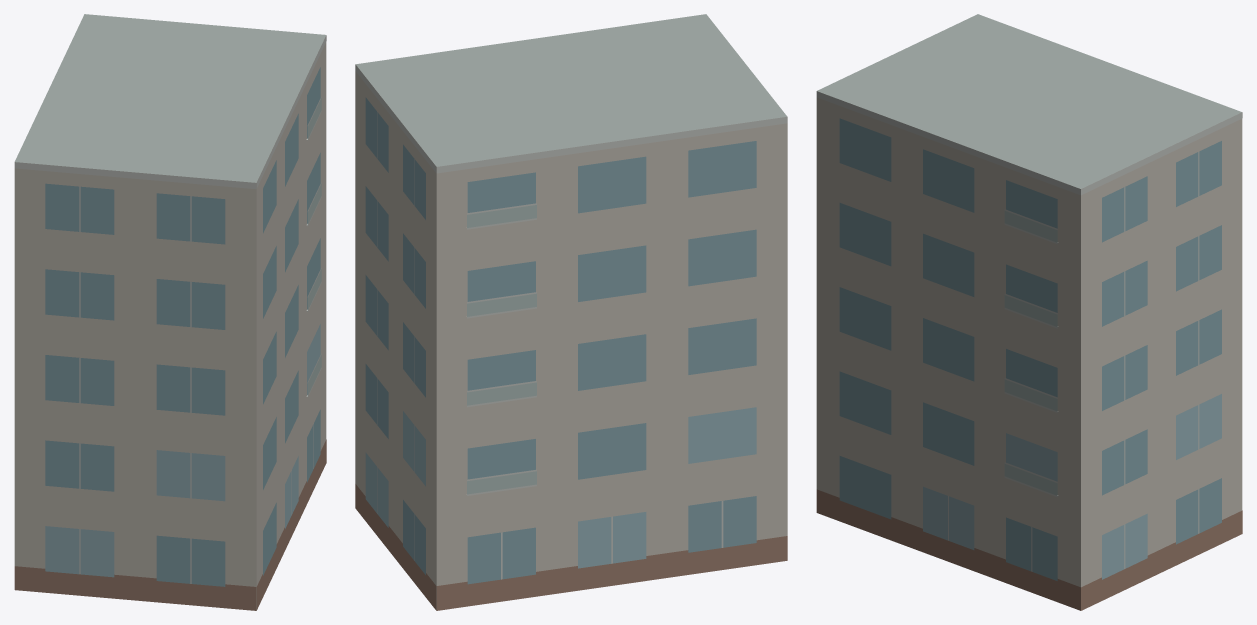
Rendered from survey-upis-32892095.glb.
The picture shows the model from 3 angles, left to right: view 1: azimuth 30°, elevation 25°; view 2: azimuth 150°, elevation 25°; view 3: azimuth 270°, elevation 25°; orthographic projection. The views are drawn at different scales.
Visible parts, largest first — view 1: survey-upis-32892095.tmp; view 2: survey-upis-32892095.tmp; view 3: survey-upis-32892095.tmp.
Boxes of the visible parts, x1,y1,x2,y2 form: survey-upis-32892095.tmp: (14, 14, 326, 610); survey-upis-32892095.tmp: (355, 14, 787, 610); survey-upis-32892095.tmp: (816, 14, 1242, 610).
Size of the model in its own units: 14.61 by 16.4 by 15.01.
